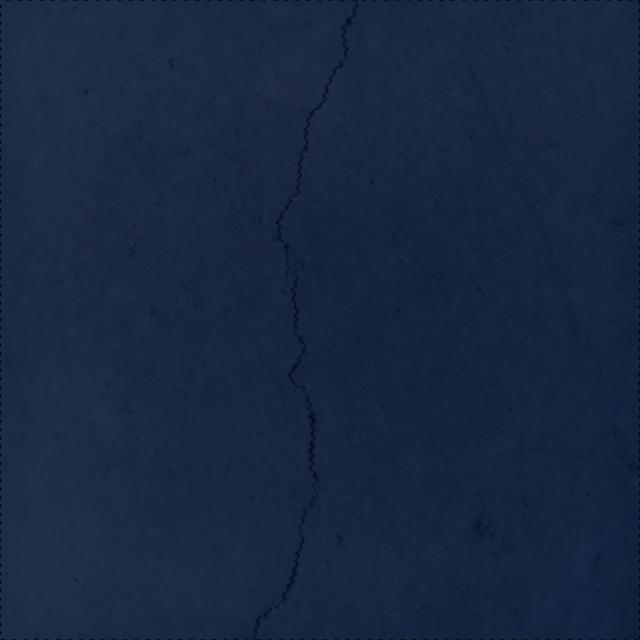crack: (252, 0, 360, 640)
